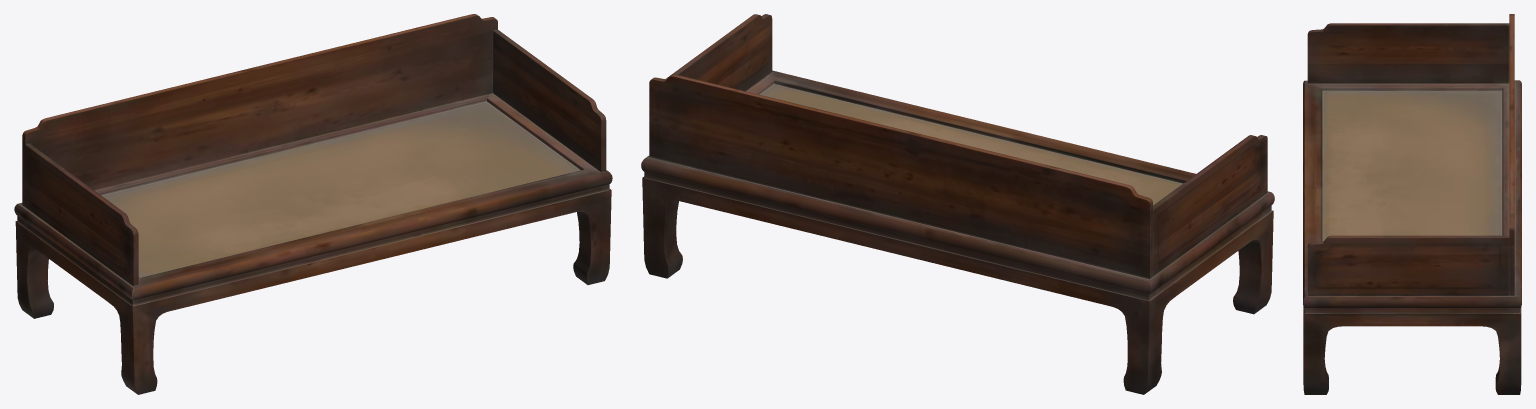
File: chinese-sofa.glb
3 renders of one model, left to right at view 1: azimuth 30°, elevation 25°; view 2: azimuth 150°, elevation 25°; view 3: azimuth 270°, elevation 25°, orthographic. The views are drawn at different scales.
Visible parts, largest first — view 1: chinese_sofa; view 2: chinese_sofa; view 3: chinese_sofa.
Part boxes in pixels (x1,y1,x2,y2): chinese_sofa: (14,14,612,394); chinese_sofa: (641,14,1274,394); chinese_sofa: (1303,14,1521,394).
Bounding box in the file's own units: 2.29 × 0.8599 × 0.9687.
Materials: 1 (1 with a texture image).
